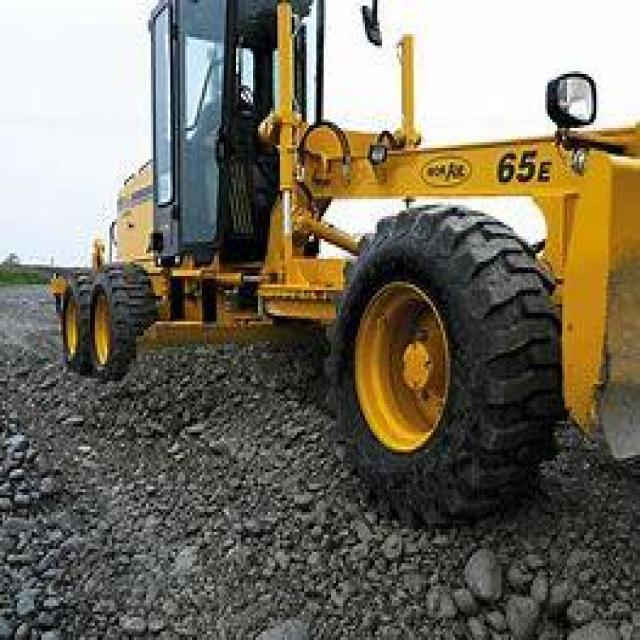Grader: (24, 2, 633, 538)
